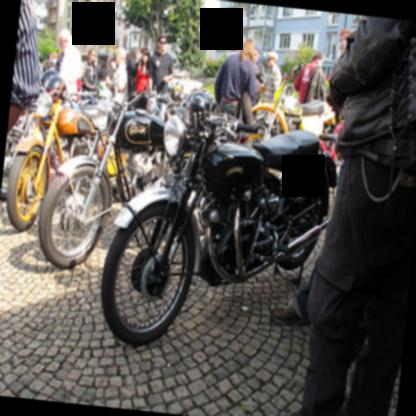handbag: (333, 59, 411, 175), (218, 97, 239, 118)
